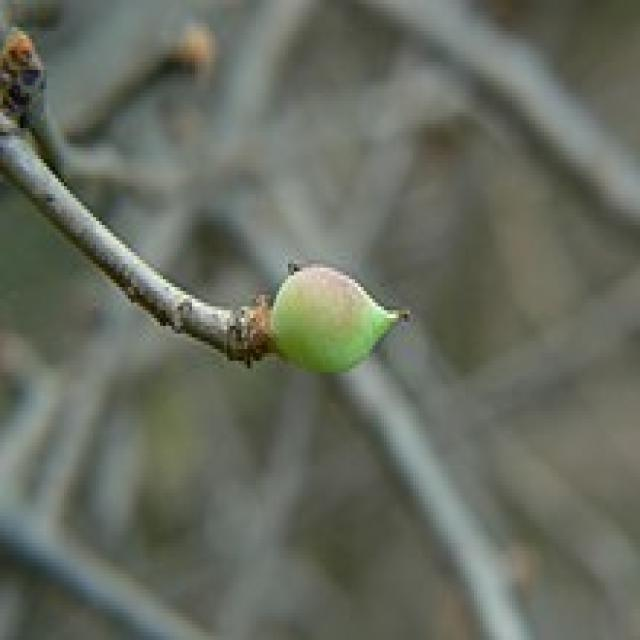Gugal: (74, 97, 418, 507)
